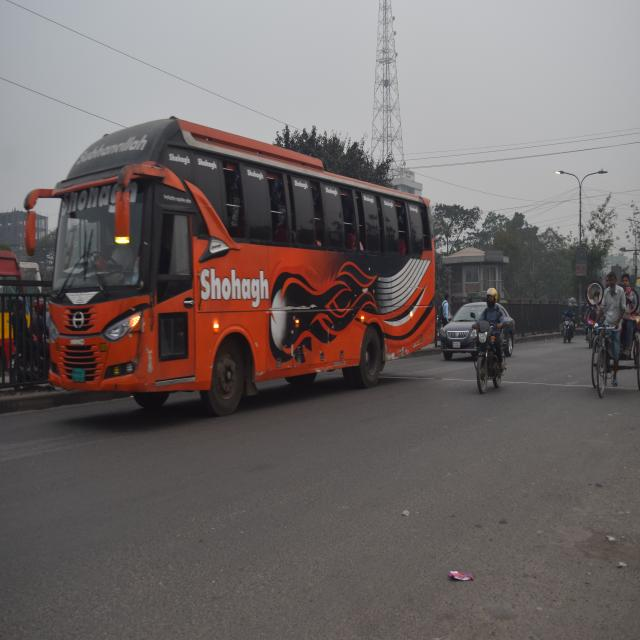bus: (15, 114, 437, 431)
car: (438, 298, 484, 361)
motorbike: (463, 306, 508, 395), (556, 305, 578, 348), (581, 305, 596, 354)
